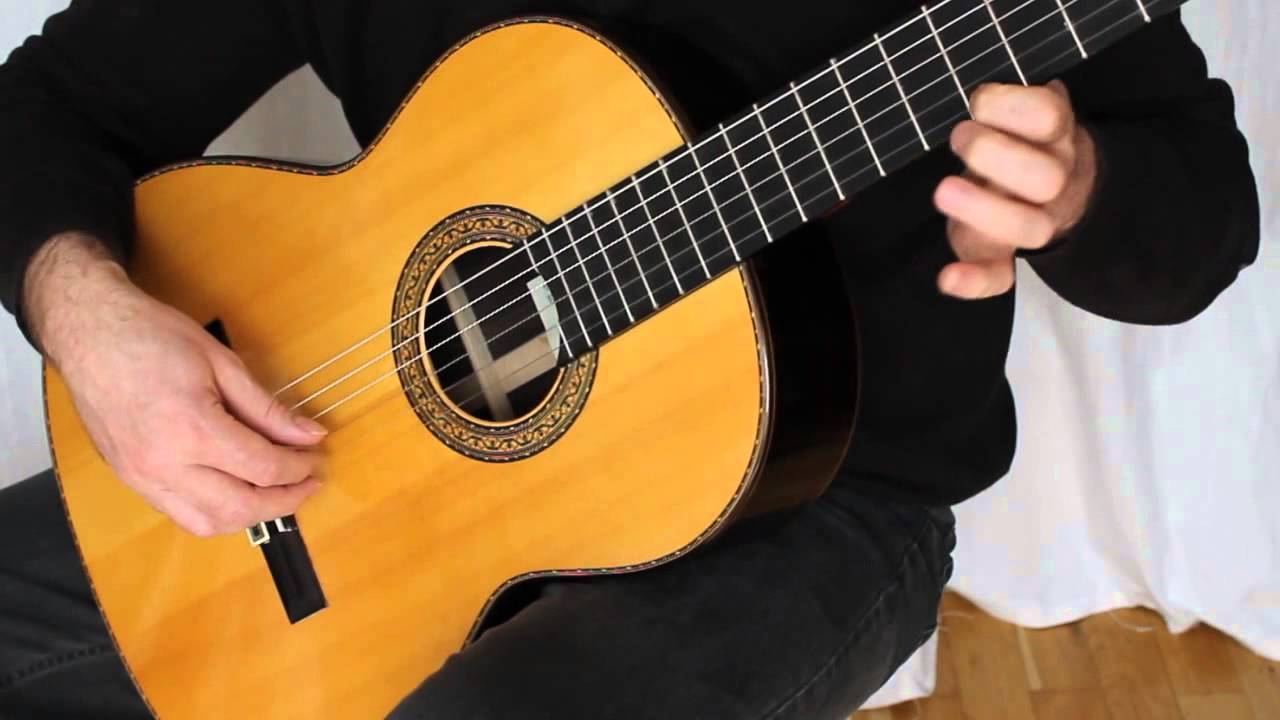0 classic: (40, 1, 1186, 718)
